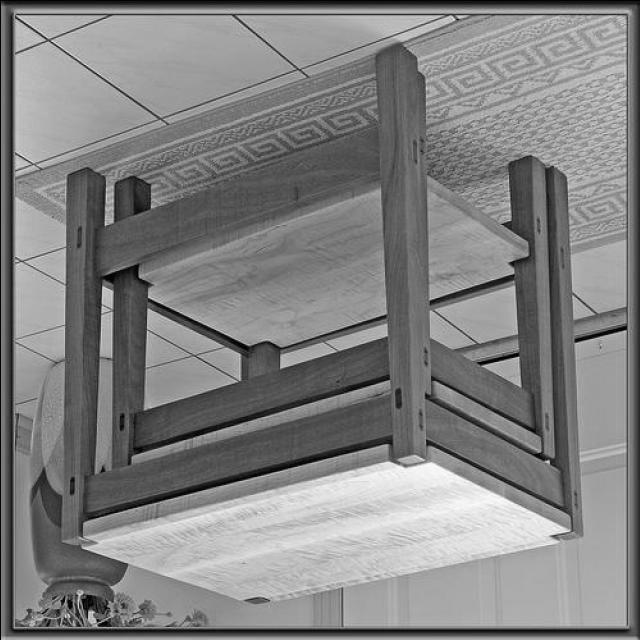table: (60, 45, 588, 607)
